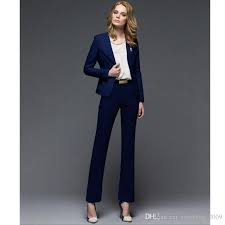F_W_pants: (84, 92, 149, 210)
F_W_suit jacket: (83, 30, 153, 96)
F_belt: (107, 78, 140, 86)
F_shirt: (109, 35, 131, 78)
